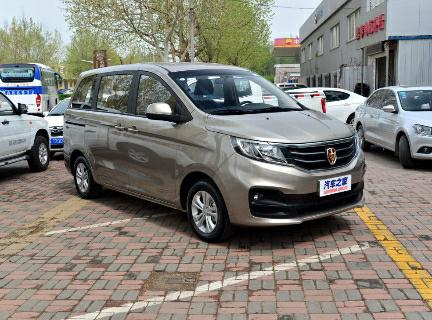金杯-F50: (60, 56, 378, 247)
